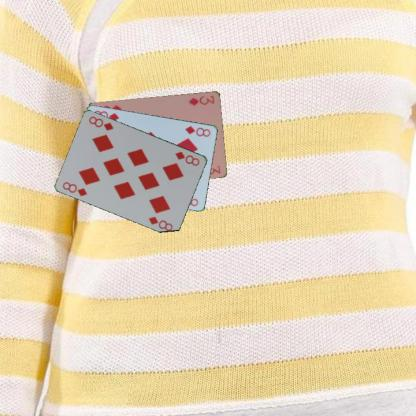3d: (186, 93, 216, 107)
8d: (173, 148, 201, 167), (60, 179, 88, 198), (183, 123, 212, 138)
